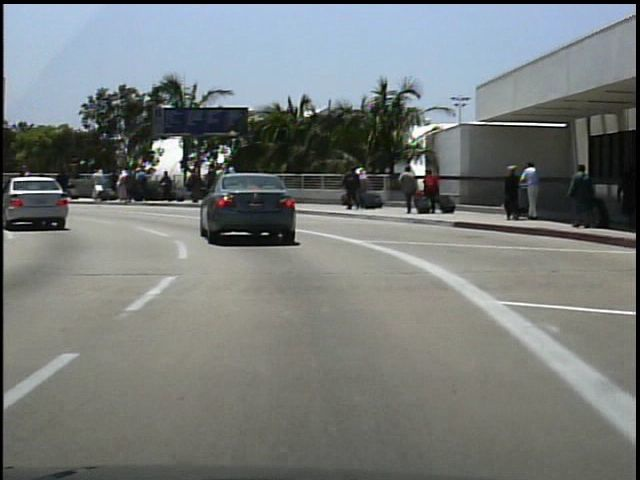person: (565, 162, 598, 229), (611, 157, 638, 229), (521, 159, 544, 224), (501, 162, 523, 222), (396, 164, 419, 216), (343, 166, 364, 213), (423, 166, 441, 212), (55, 166, 76, 201), (43, 167, 62, 202), (21, 165, 34, 200)
